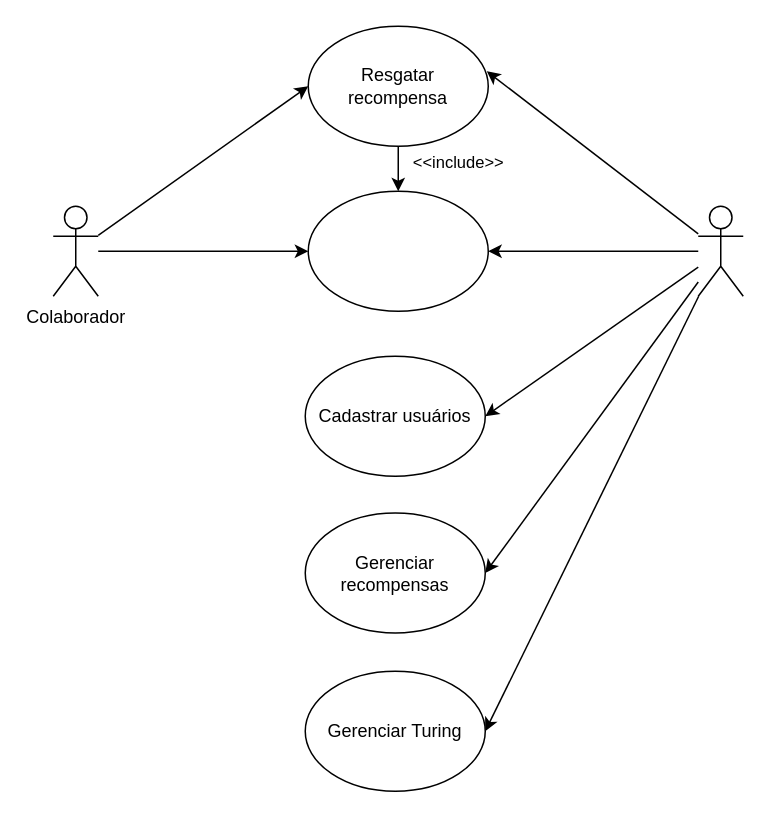
This 780x818 diagram has some shape labels left out. Here are the shapes that lost their labels. From the top down, the box of each, then its label:
(307, 190, 488, 311): Verificar saldo e extrato de Turing
(697, 205, 743, 296): Diretoria
